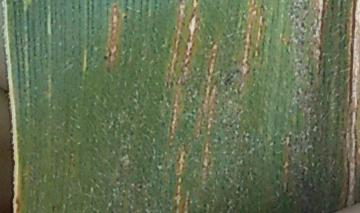tarspot: (327, 3, 337, 15), (135, 182, 147, 191), (101, 52, 108, 62)
